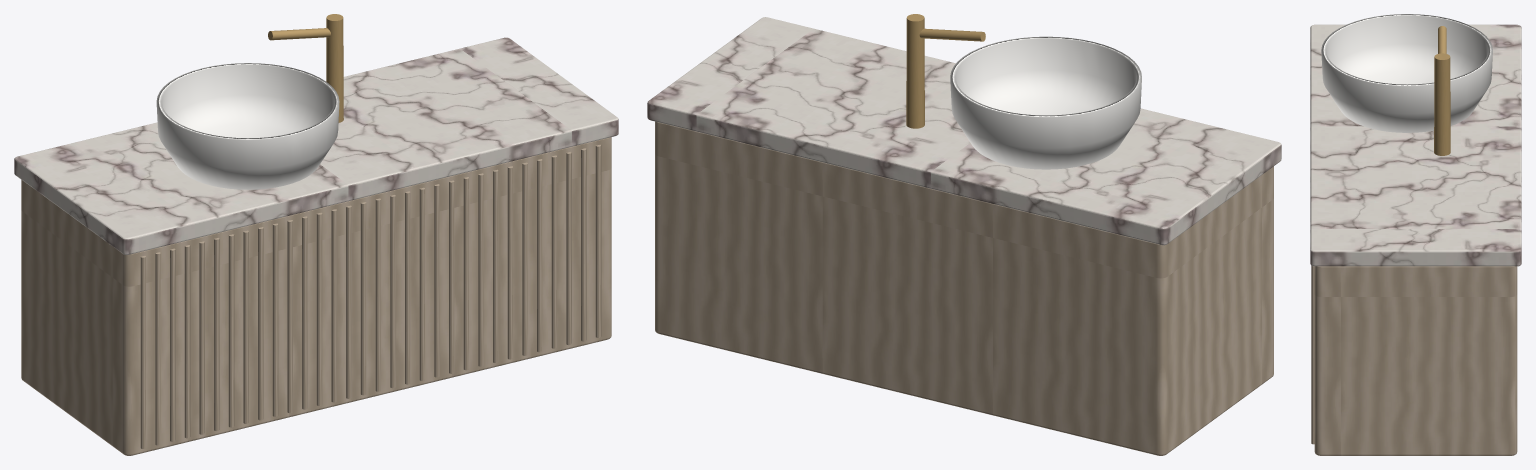
Rendered from kowhai-hero-bth-01.glb.
3 views of the same model, side by side, from view 1: azimuth 30°, elevation 25°; view 2: azimuth 150°, elevation 25°; view 3: azimuth 270°, elevation 25° (orthographic). The views are drawn at different scales.
Visible parts, largest first — view 1: Vanity_FlutedTimberCabinet, Vanity_CalacattaMarbleTop, SubPart (×33), Vanity_ReededVesselBasin, Vanity_TallBrassVesselMixer; view 2: Vanity_FlutedTimberCabinet, Vanity_CalacattaMarbleTop, Vanity_ReededVesselBasin, Vanity_TallBrassVesselMixer, SubPart; view 3: Vanity_FlutedTimberCabinet, Vanity_CalacattaMarbleTop, Vanity_ReededVesselBasin, Vanity_TallBrassVesselMixer, SubPart (×2).
Part boxes in pixels (bbox=[...]): Vanity_FlutedTimberCabinet: bbox=[21, 137, 611, 455]; Vanity_CalacattaMarbleTop: bbox=[14, 37, 618, 254]; SubPart (×33): bbox=[140, 28, 601, 448]; Vanity_ReededVesselBasin: bbox=[156, 63, 339, 189]; Vanity_TallBrassVesselMixer: bbox=[326, 14, 343, 122]; Vanity_FlutedTimberCabinet: bbox=[655, 121, 1273, 455]; Vanity_CalacattaMarbleTop: bbox=[647, 17, 1281, 245]; Vanity_ReededVesselBasin: bbox=[950, 36, 1141, 169]; Vanity_TallBrassVesselMixer: bbox=[906, 14, 924, 128]; SubPart: bbox=[919, 28, 985, 41]; Vanity_FlutedTimberCabinet: bbox=[1314, 266, 1517, 455]; Vanity_CalacattaMarbleTop: bbox=[1310, 24, 1521, 266]; Vanity_ReededVesselBasin: bbox=[1321, 14, 1492, 132]; Vanity_TallBrassVesselMixer: bbox=[1434, 53, 1450, 155]; SubPart (×2): bbox=[1311, 26, 1446, 444].
Bounding box in the file's own units: 1.22 × 0.764 × 0.48.
4 materials, 3 textured.
